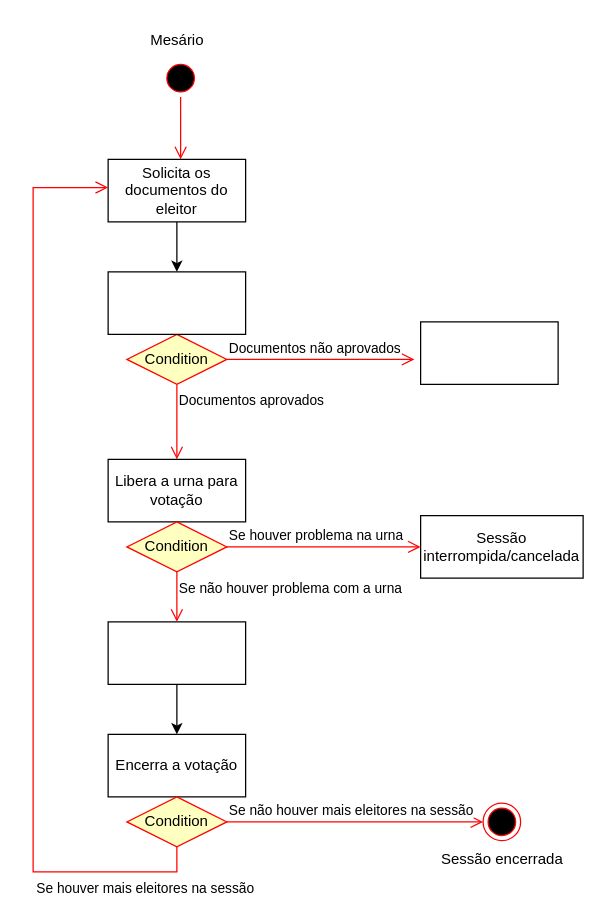
Image size: 605x918. Some labels were removed from this diagram. The shapes that lost their labels are listed below. From the top down, each one's centre as x and y in pixels, then its label:
the point at 176,302: Verifica os documentos
the point at 488,352: Impede o eleitor de realizar o voto
the point at 176,652: Aguarda o eleitor realizar os votos
